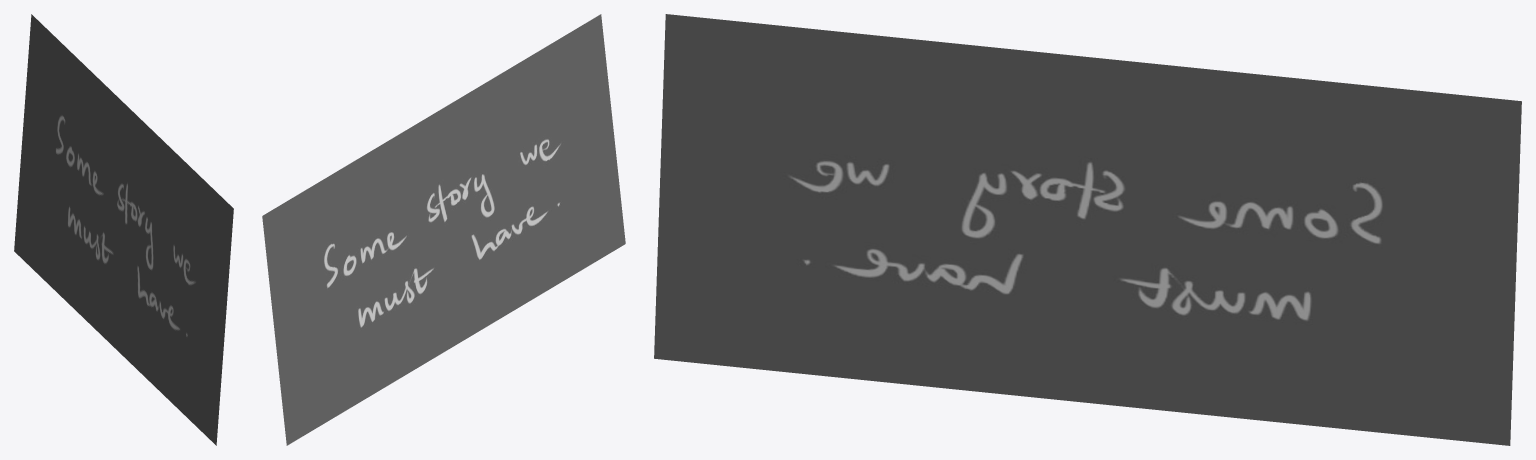
The picture shows the model from 3 angles, left to right: view 1: azimuth 30°, elevation 25°; view 2: azimuth 150°, elevation 25°; view 3: azimuth 270°, elevation 25°; orthographic projection. The views are drawn at different scales.
Parts seen in each view (by area): view 1: Plane.009; view 2: Plane.009; view 3: Plane.009.
Boxes of the visible parts, <box> form: Plane.009: <box>14,14,233,445</box>; Plane.009: <box>262,14,625,445</box>; Plane.009: <box>654,14,1521,445</box>.
Bounding box in the file's own units: 0.498 × 1.32 × 2.62.
Materials: 1 (1 with a texture image).
